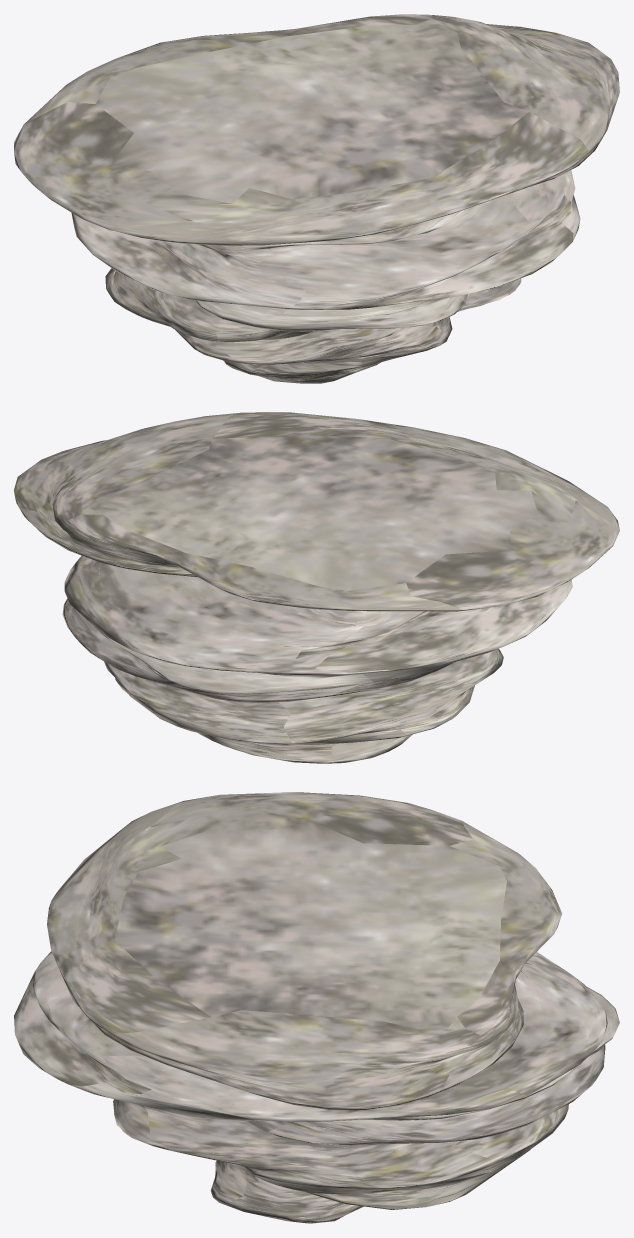
File: Plt1.fbx
The picture shows the model from 3 angles, top to bottom: view 1: azimuth 30°, elevation 25°; view 2: azimuth 150°, elevation 25°; view 3: azimuth 270°, elevation 25°; orthographic projection. The views are drawn at different scales.
Visible parts, largest first — view 1: Cube.002; view 2: Cube.002; view 3: Cube.002.
Boxes of the visible parts, <box> form: Cube.002: <box>14,14,619,383</box>; Cube.002: <box>14,412,619,763</box>; Cube.002: <box>14,792,619,1223</box>.
Size of the model in its own units: 493 by 215 by 420.
